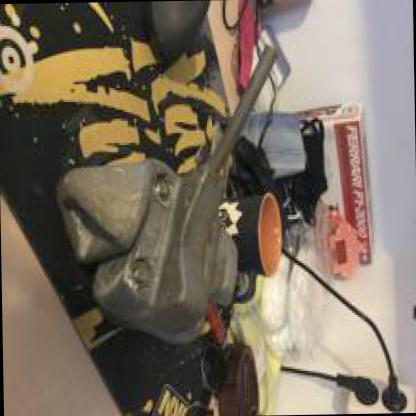Twistlock: (47, 29, 286, 362)
